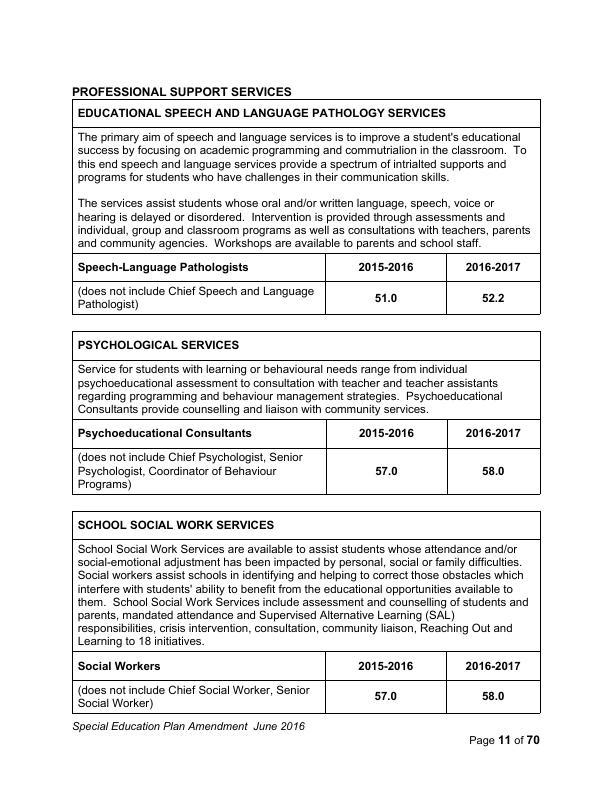table: (70, 98, 547, 318), (69, 509, 545, 717), (68, 329, 547, 498)
text: (71, 719, 308, 734), (72, 85, 291, 98), (463, 731, 544, 747)
